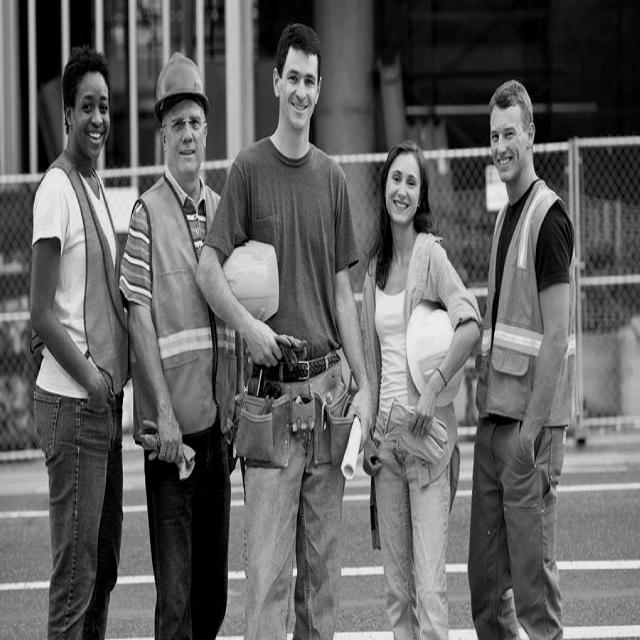face_nomask: (276, 62, 326, 128), (163, 110, 205, 177), (384, 165, 426, 228), (75, 92, 117, 152), (491, 114, 524, 182)
hand_noglove: (345, 382, 377, 456), (243, 318, 282, 376), (84, 370, 113, 421), (155, 411, 180, 466), (410, 397, 442, 437), (362, 440, 385, 484)
head_helmet: (222, 236, 281, 325), (154, 46, 209, 110)
head_nohelmet: (485, 64, 529, 118), (279, 19, 326, 59), (66, 44, 110, 86), (382, 132, 432, 166)
person: (223, 27, 362, 640), (122, 50, 228, 640), (473, 80, 582, 639), (26, 52, 127, 640), (361, 144, 471, 638)
vest: (128, 179, 240, 434), (474, 180, 571, 422)
